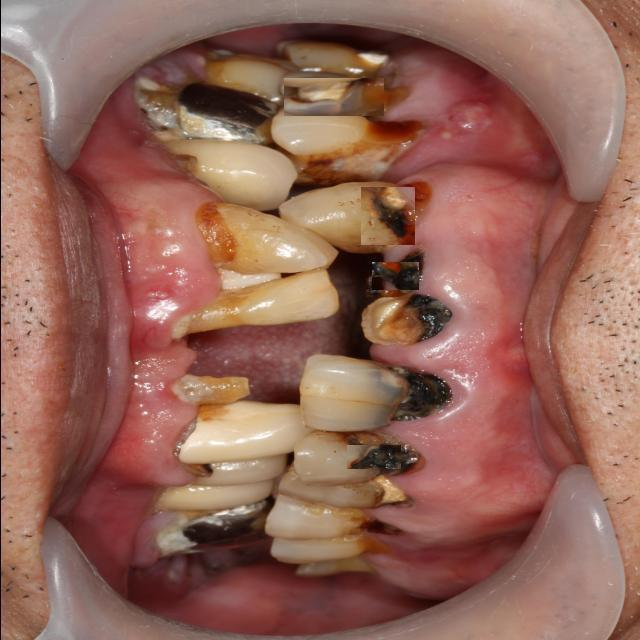decay: (156, 86, 254, 141), (173, 502, 265, 554), (359, 297, 439, 345), (283, 78, 383, 116), (365, 373, 443, 417), (360, 187, 414, 245), (185, 371, 233, 412), (198, 208, 229, 262), (361, 482, 409, 514), (371, 262, 418, 290), (361, 125, 403, 156), (346, 445, 400, 469)
